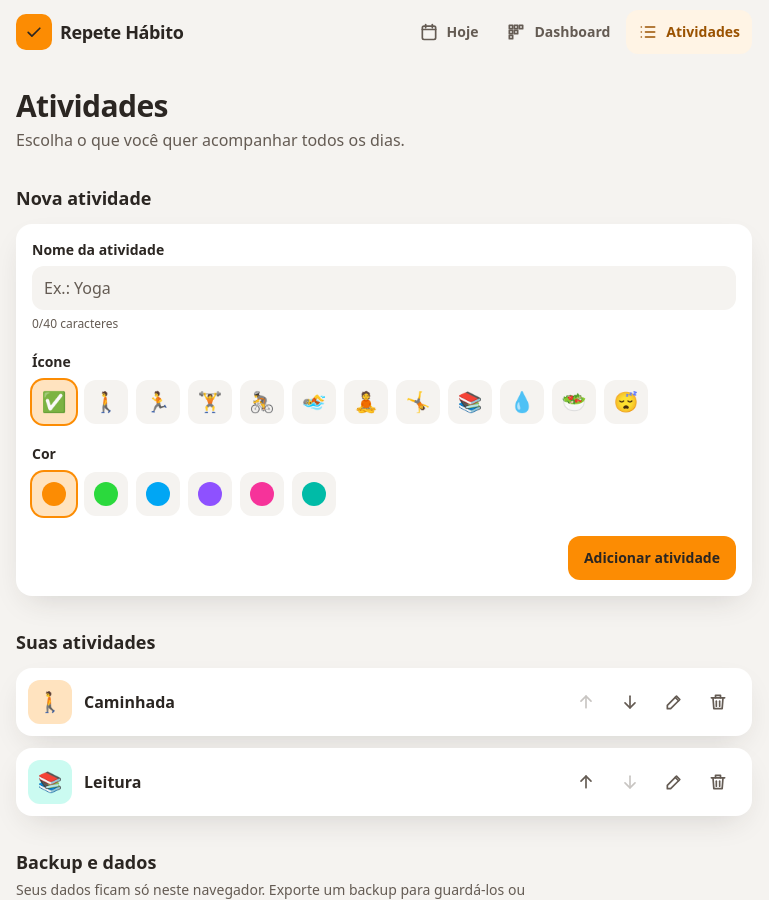
Test: ActivitiesView — gerenciamento › reordena atividades e desabilita os movimentos nos extremos
Expected: the button named "Mover Caminhada para cima" is disabled, [564, 680, 608, 724]
Click the button named "Mover Caminhada para baixo" at [630, 702], box [608, 680, 652, 724]
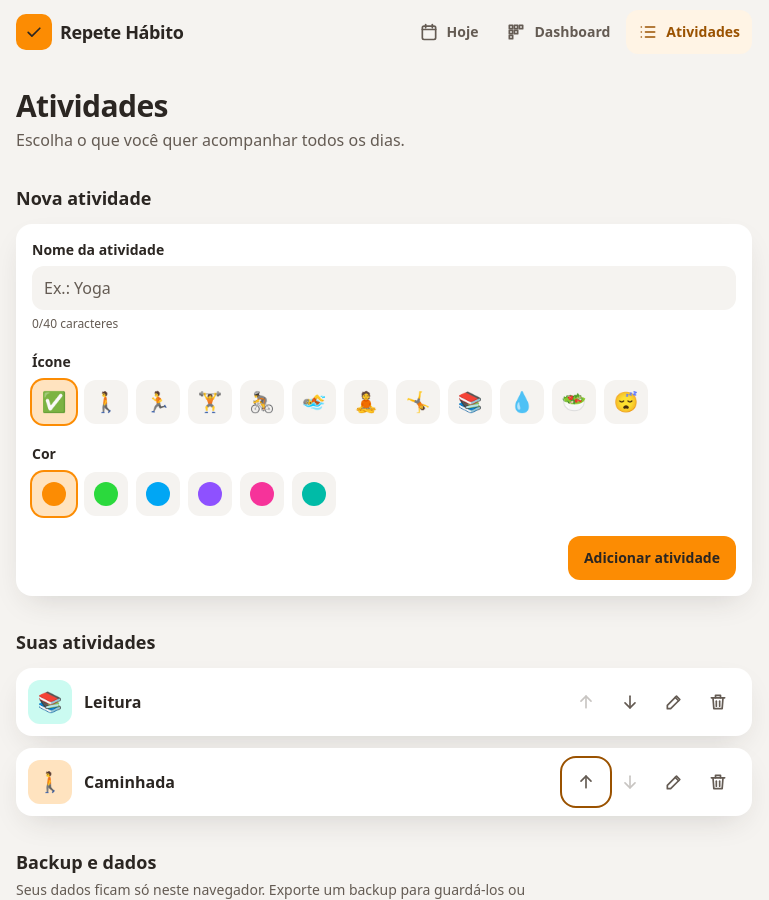
Now the button named "Mover Caminhada para baixo" is disabled, box [608, 760, 652, 804]
